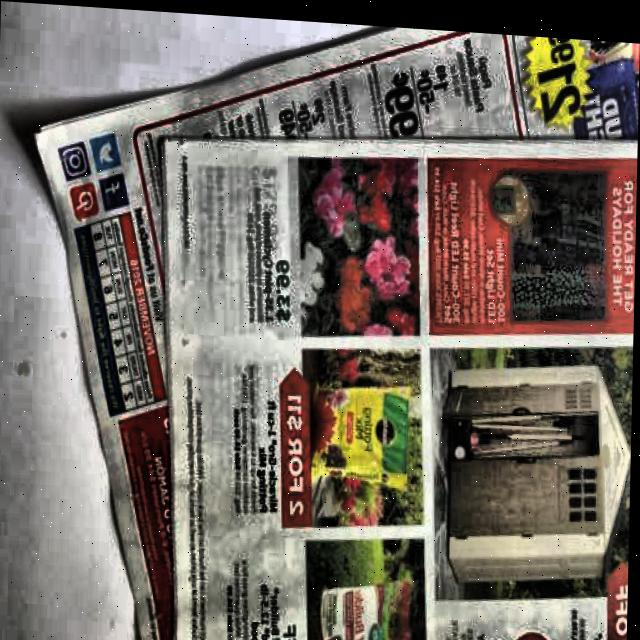paper: (22, 2, 640, 640)
